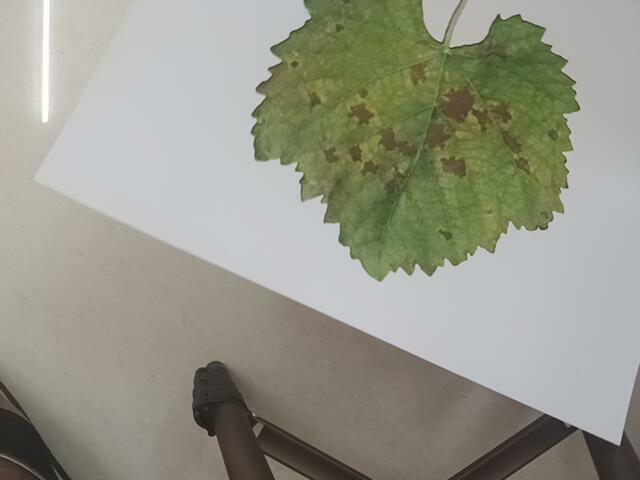Grape_Leaf_Vine_Disease: (262, 1, 583, 274)
